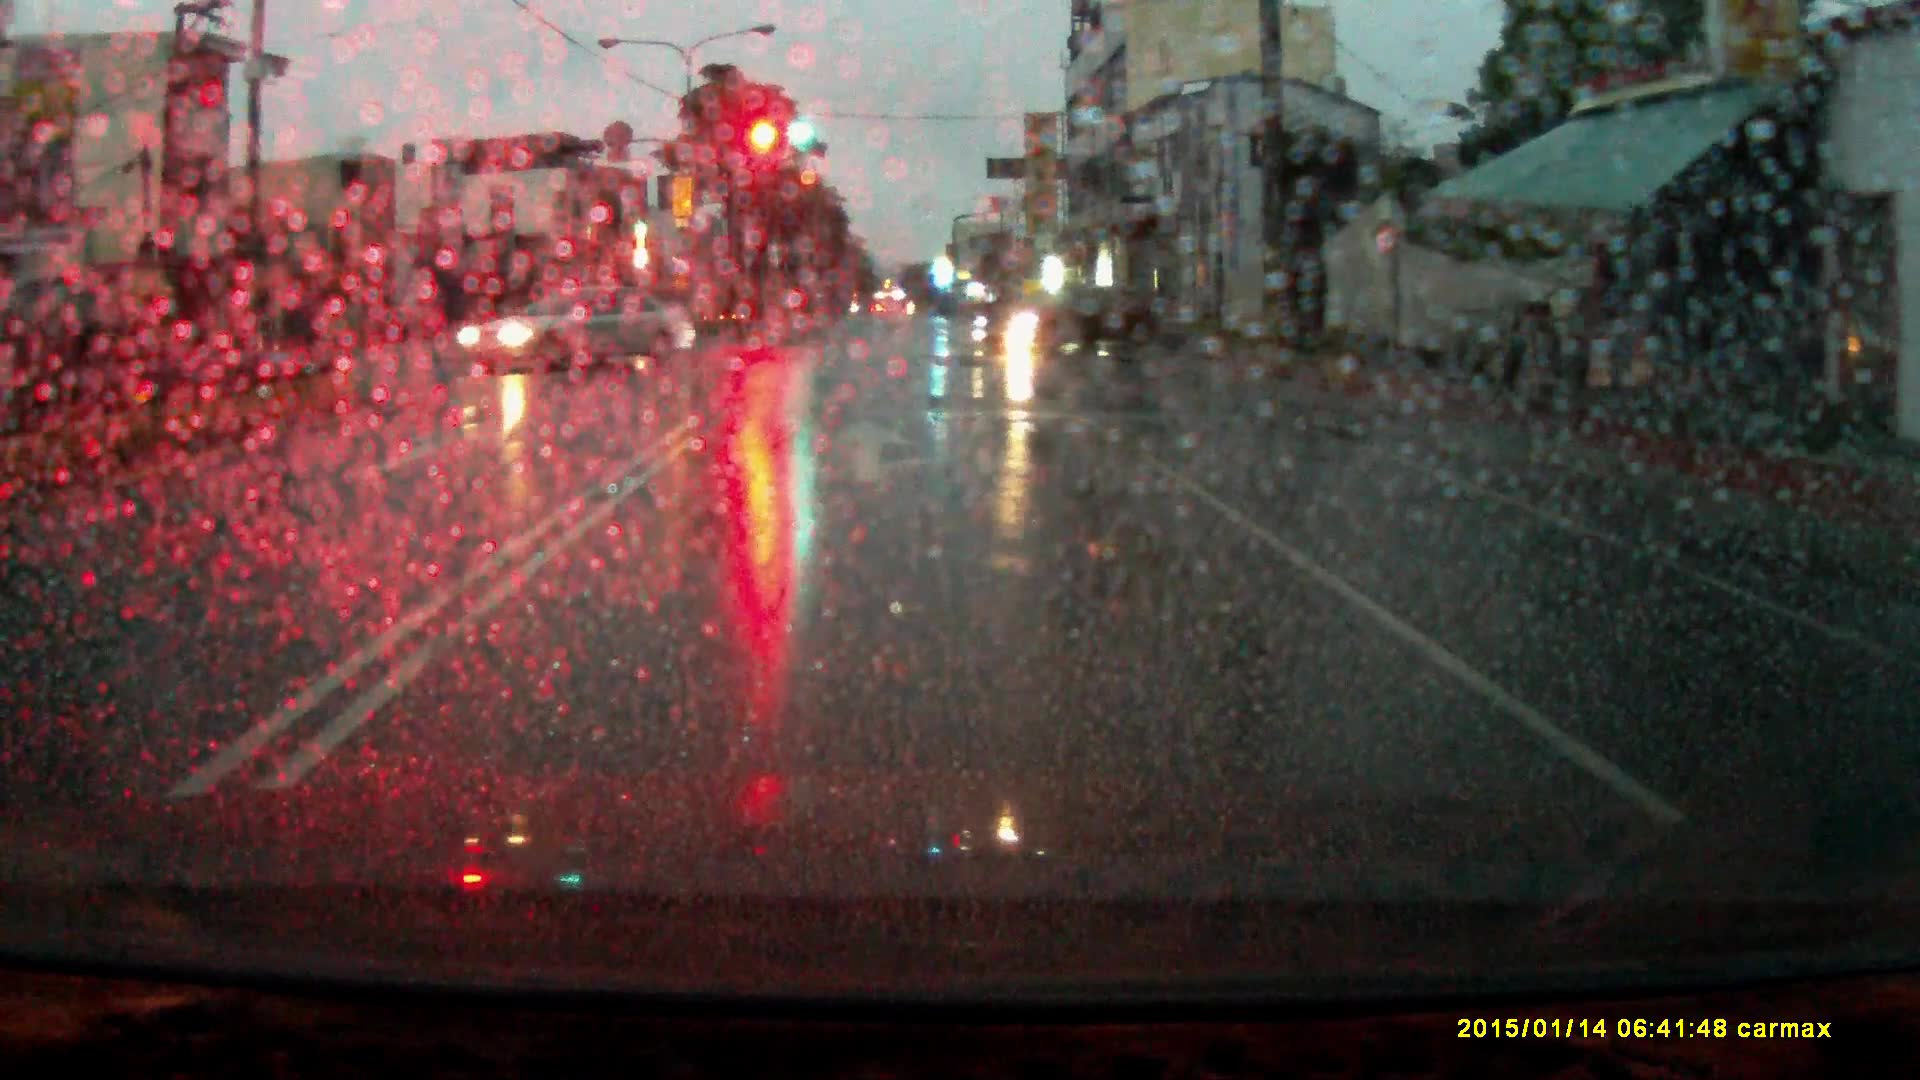vehicle: (460, 287, 700, 380), (975, 291, 1164, 360)
